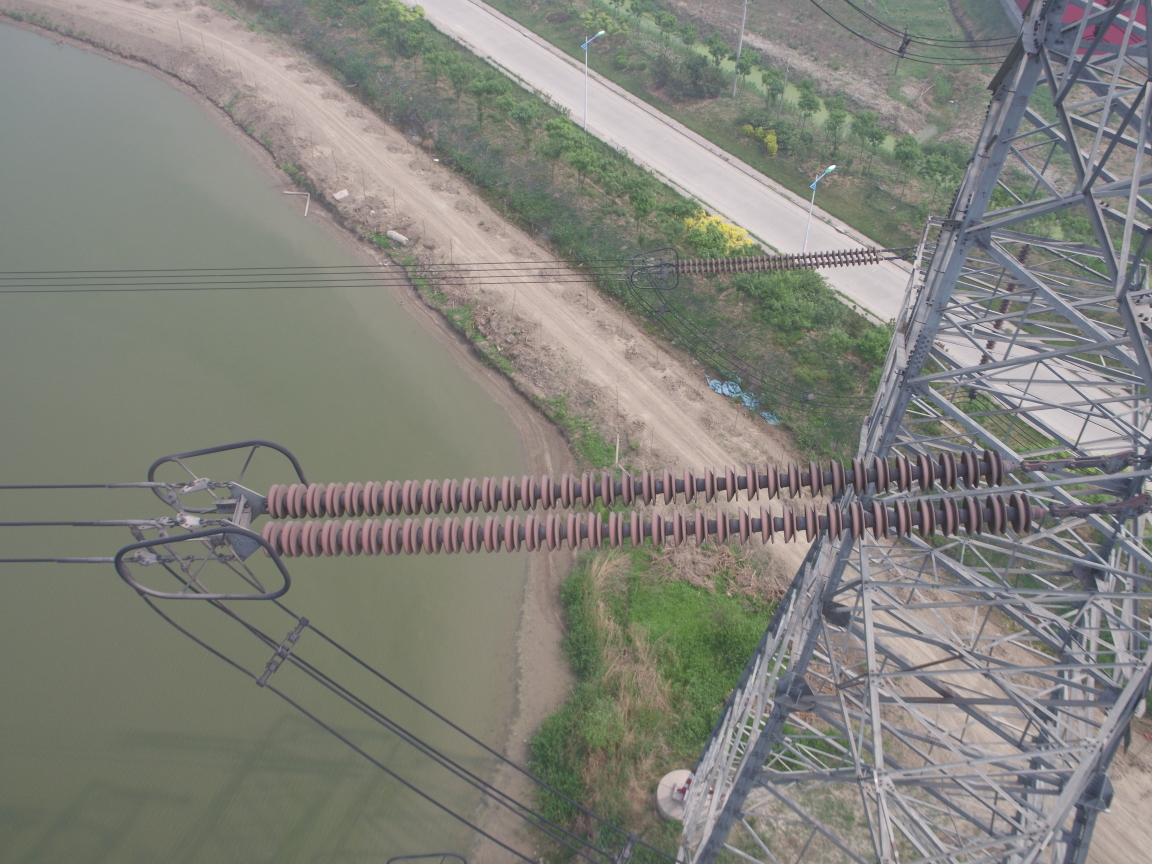insulator: (248, 446, 1097, 561), (665, 245, 892, 277)
